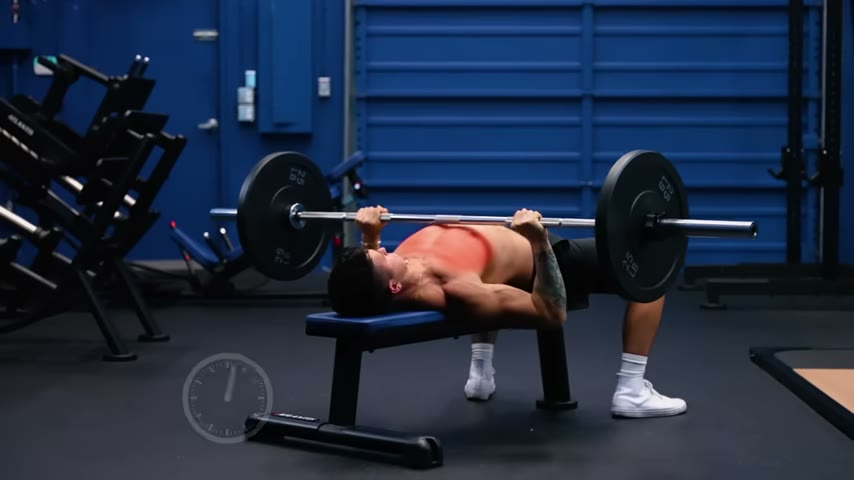barbell_plate_side: (240, 145, 366, 298), (174, 345, 276, 466)
